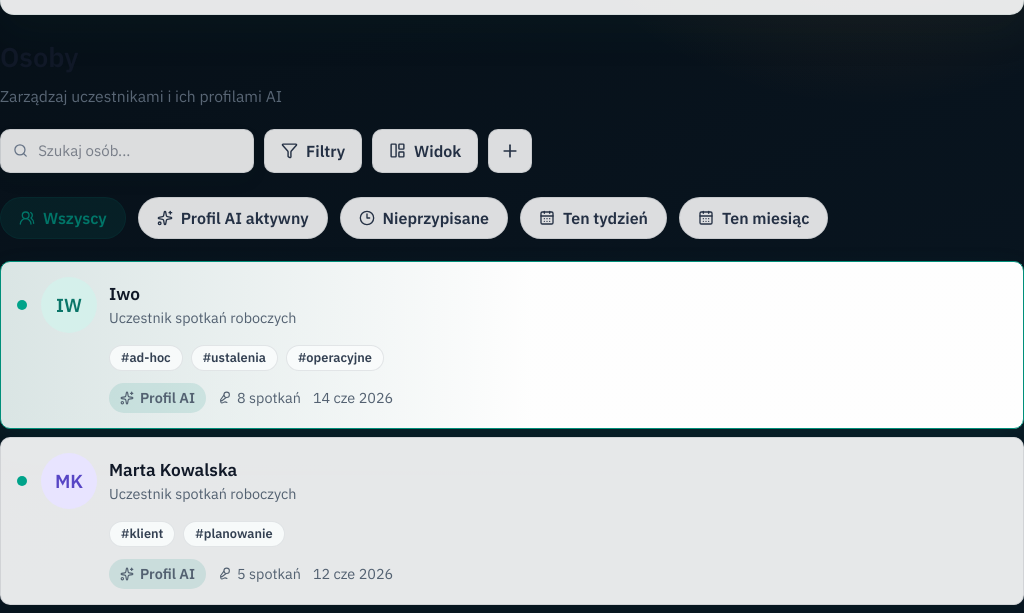
Test: PeopleTab directory view › Regression: delete person failure keeps details open and shows error state
(page scrolled)
Click the button "Iwo". click: (512, 345)
box: [0, 261, 1023, 429]
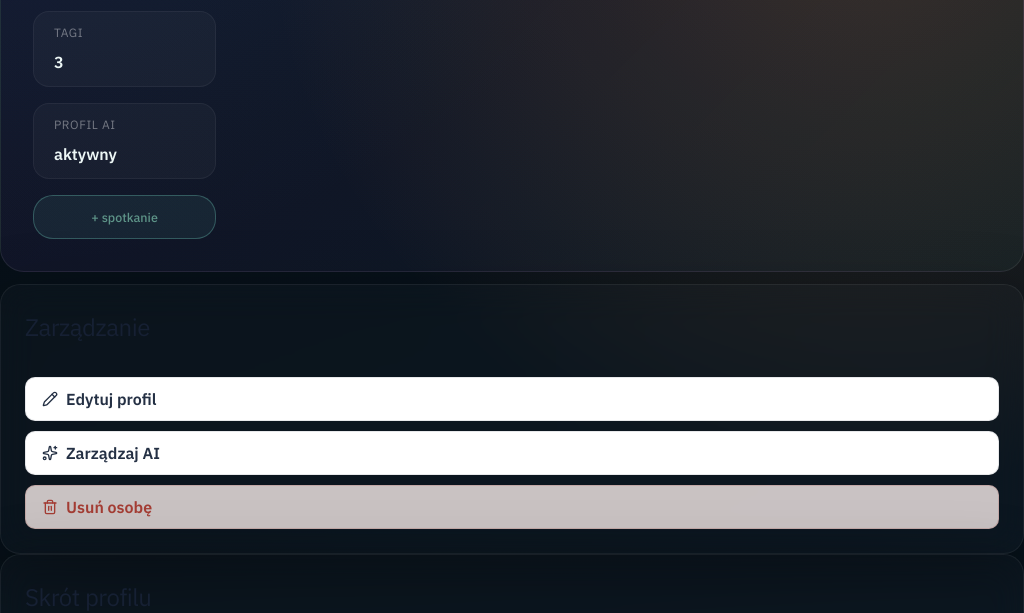
Click the button "Usuń osobę". click: (109, 507)
box: [25, 485, 999, 529]
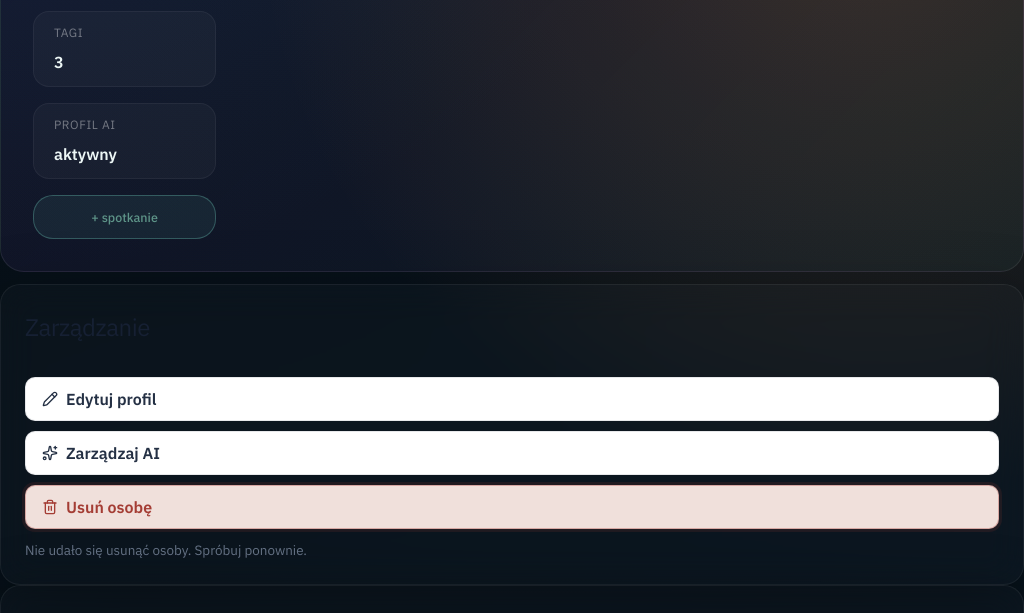
expect the message shows "Nie udało się usunąć osoby": met, box [25, 541, 307, 559]
